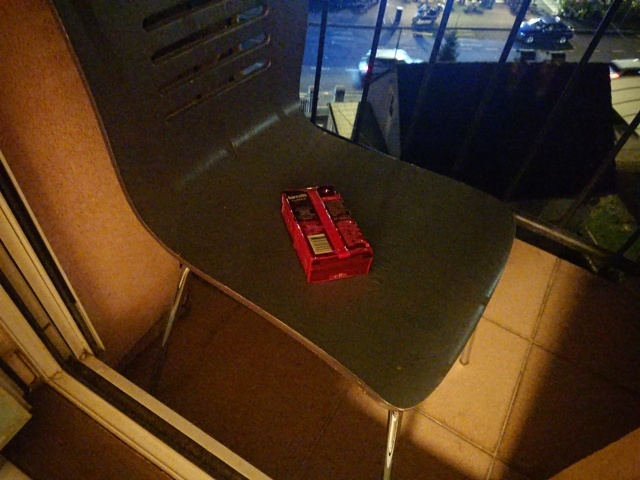Barcaffe Classic Original 225g: (276, 183, 377, 287)
